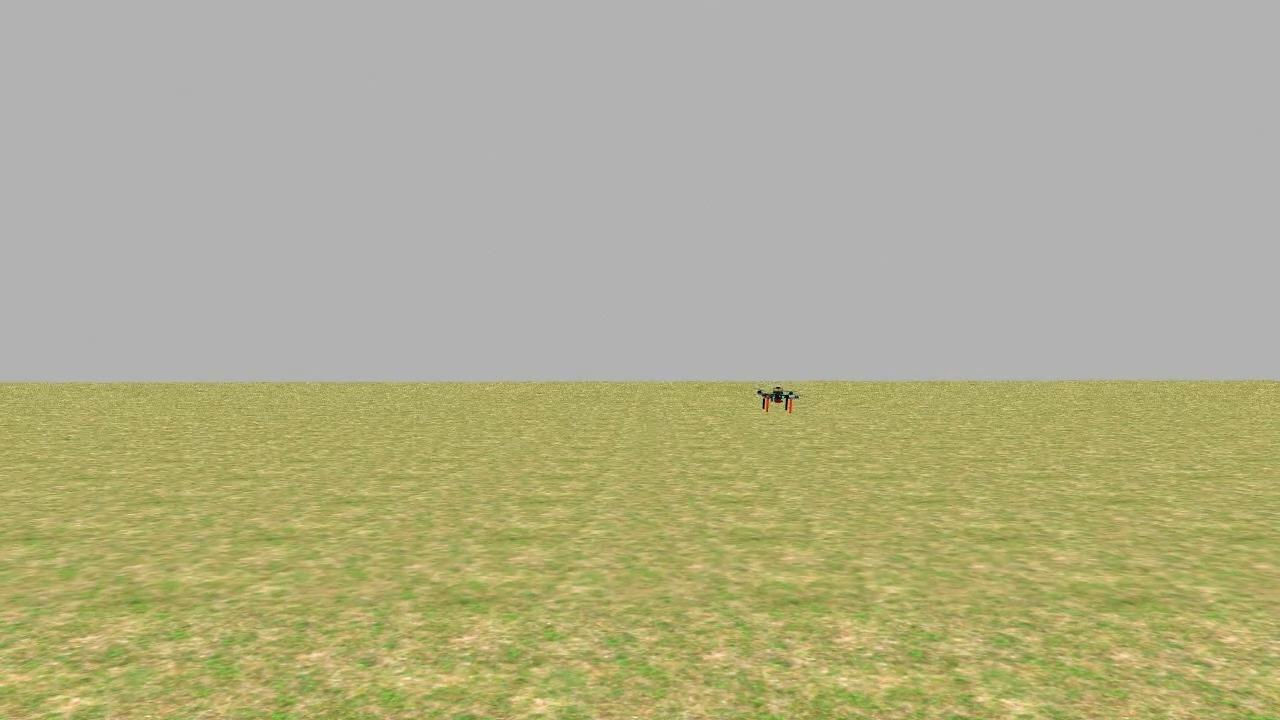UAV: (722, 359, 838, 434)
